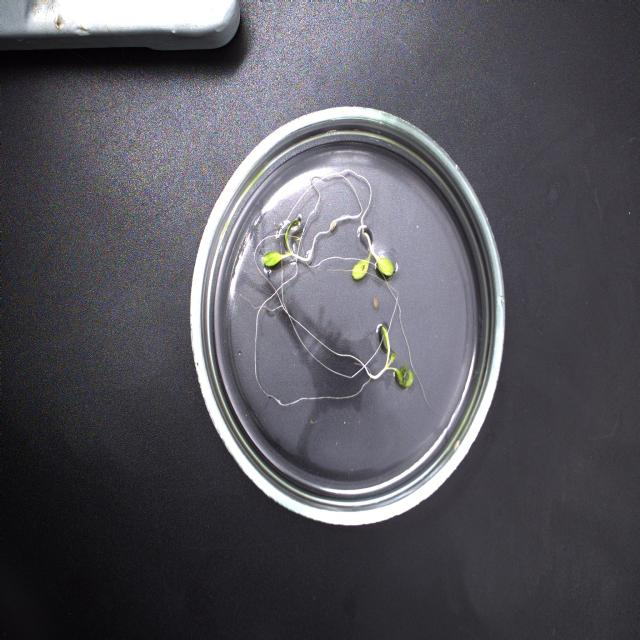leaf: (379, 324, 396, 365)
root: (240, 233, 384, 409)
steb: (283, 245, 314, 262)
